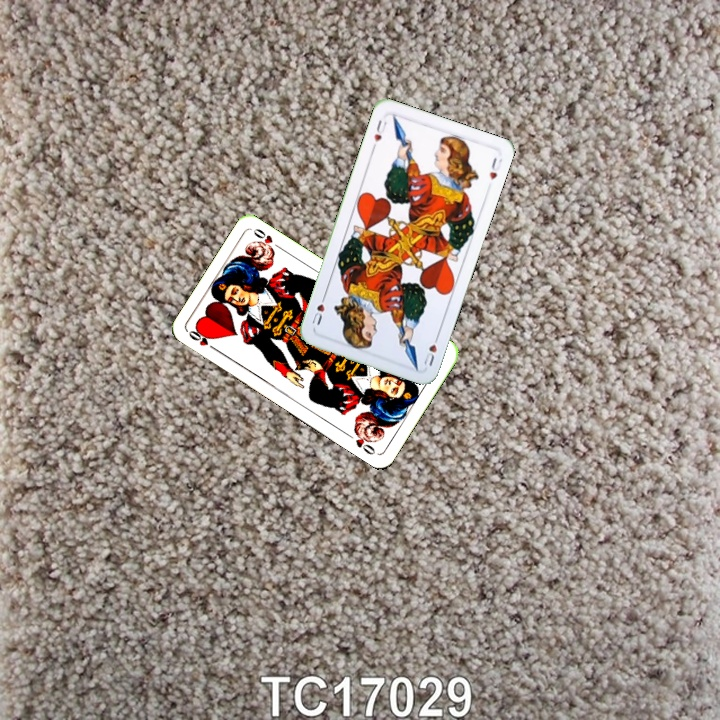HO: (185, 326, 221, 354)
HU: (419, 330, 442, 369), (368, 116, 390, 152)
